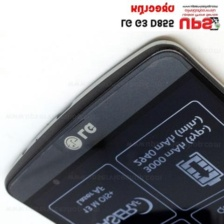phone: (2, 37, 224, 223)
